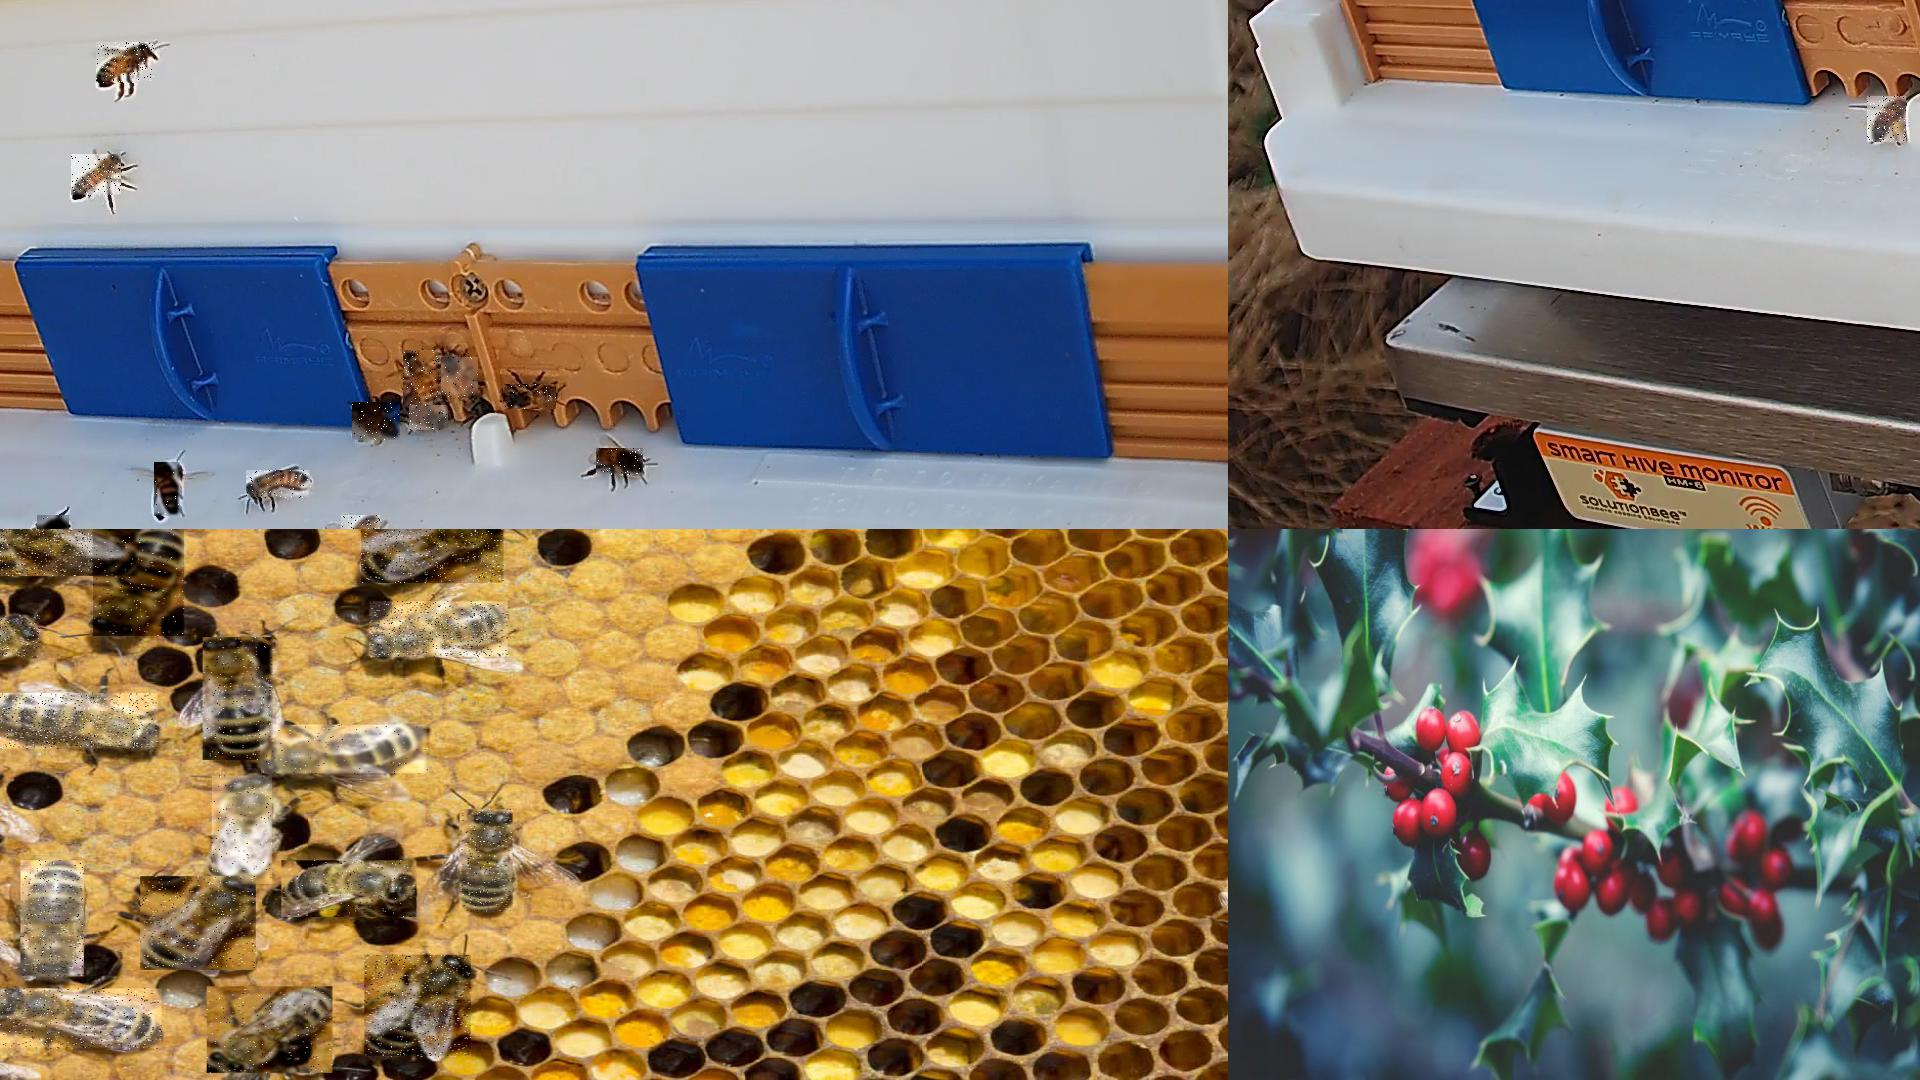bee: (364, 955, 472, 1058), (141, 876, 257, 971), (207, 986, 334, 1073), (94, 529, 186, 637), (0, 989, 162, 1050), (203, 637, 276, 761), (0, 692, 158, 749), (261, 725, 430, 774), (361, 529, 505, 584), (369, 601, 509, 658), (21, 861, 86, 980), (212, 775, 274, 885), (0, 529, 137, 576), (459, 810, 514, 914), (96, 44, 156, 84), (71, 154, 123, 198), (404, 351, 440, 407), (352, 402, 401, 443), (247, 471, 313, 500), (0, 616, 41, 658), (154, 463, 183, 520), (440, 357, 479, 398), (504, 384, 558, 410), (596, 448, 645, 477), (409, 405, 450, 431), (342, 516, 382, 527), (37, 516, 71, 527)
pollenbee: (281, 861, 418, 918), (1867, 96, 1907, 142)
